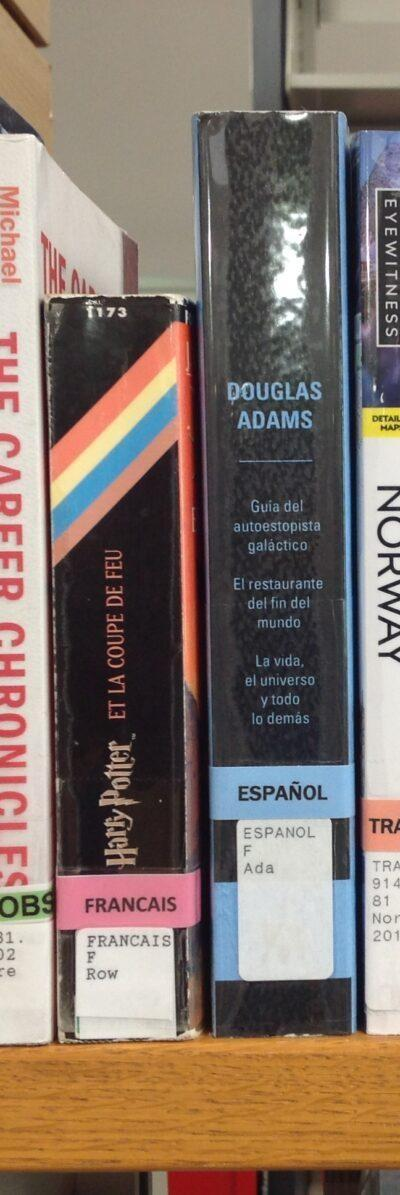call_number: (238, 821, 333, 976), (76, 933, 165, 1026)
